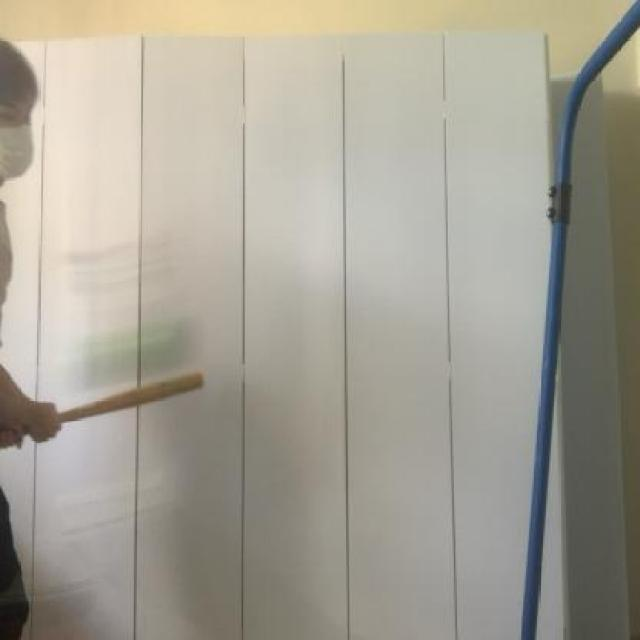baseball: (55, 296, 192, 389)
